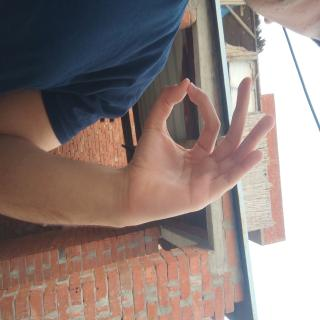Space: (53, 55, 172, 268)
